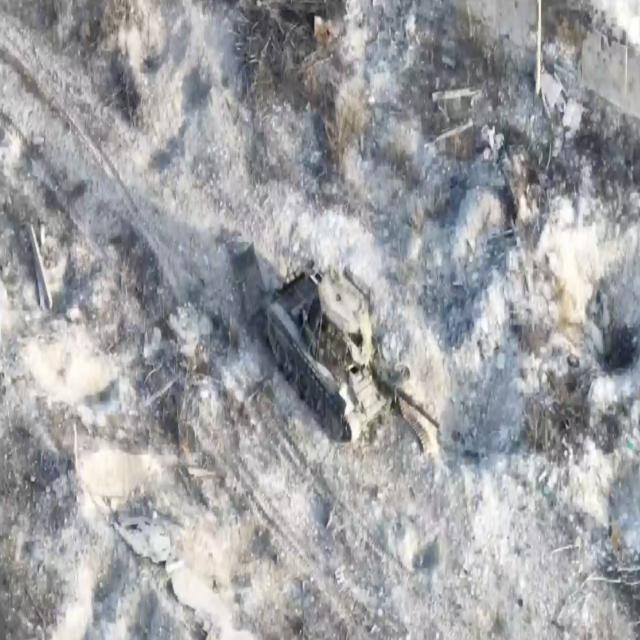vehicle: (264, 263, 440, 459)
